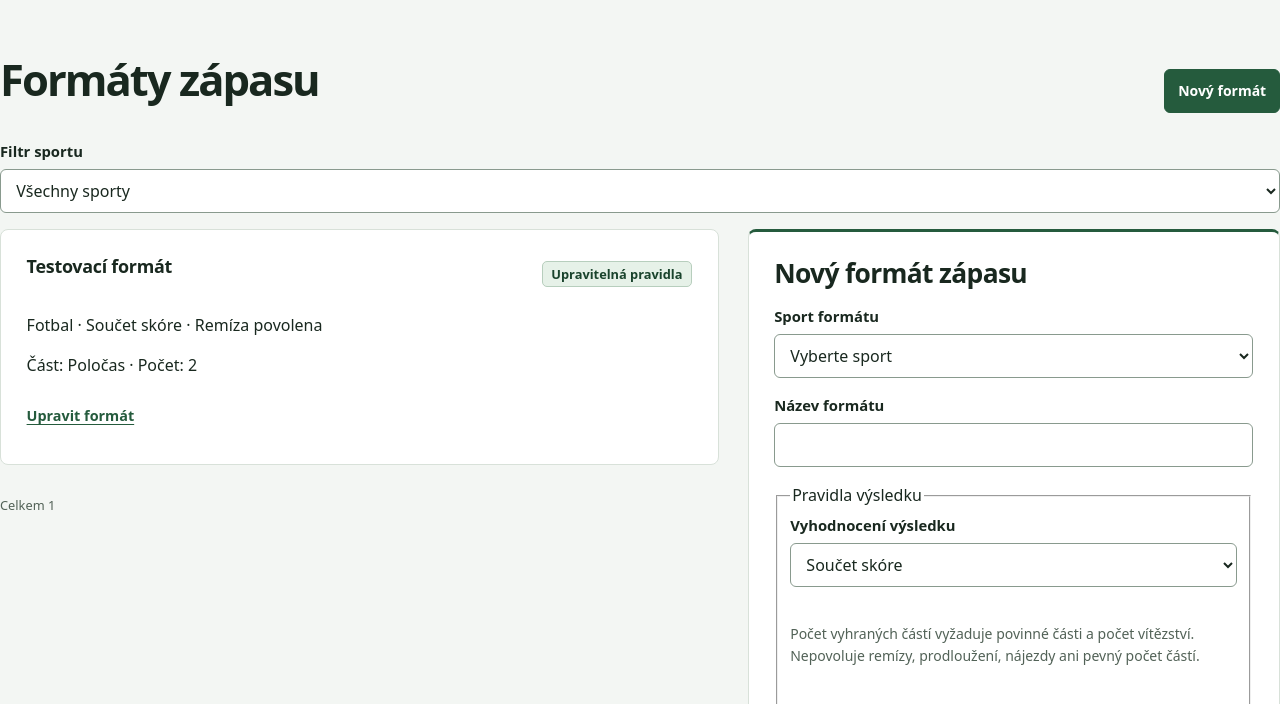
Test: P4 formáty zápasu › při konfliktu zachová úpravy i přesnou verzi a načte nový stav až na pokyn
This screenshot has width=1280, height=704.
Click the button "Upravit formát" at x=80, y=416, box [27,394,134,438]
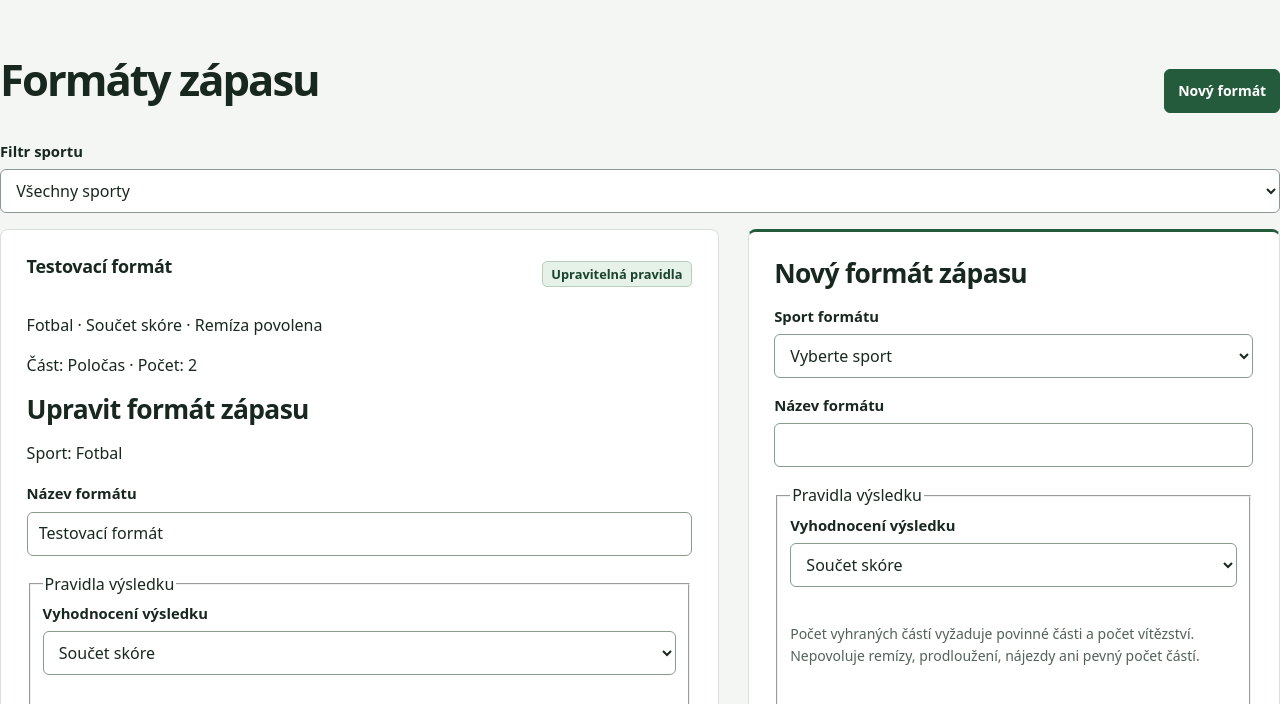
Replace the text in the field labelled "Název formátu" below "Sport:" with "Rozepsaná změna" at x=359, y=534, box [27,512,692,556]
(page scrolled)
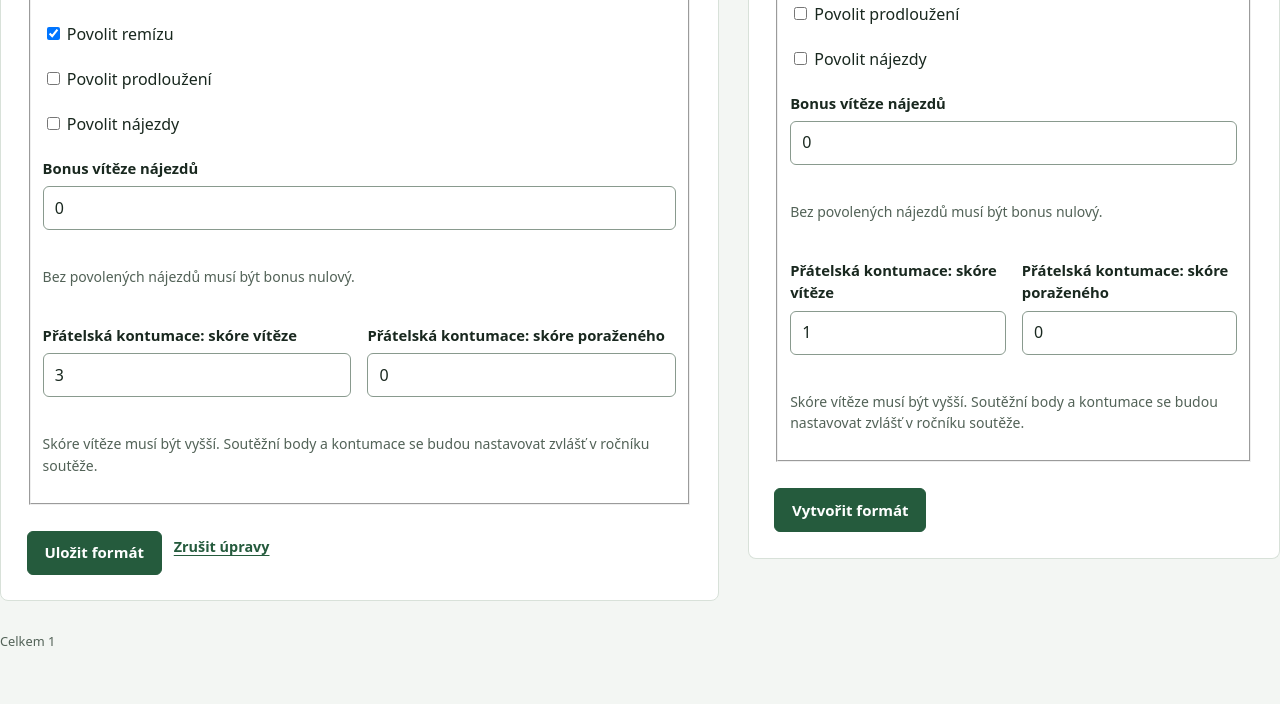
Click the button "Uložit formát" at x=94, y=552, box [27,530,162,574]
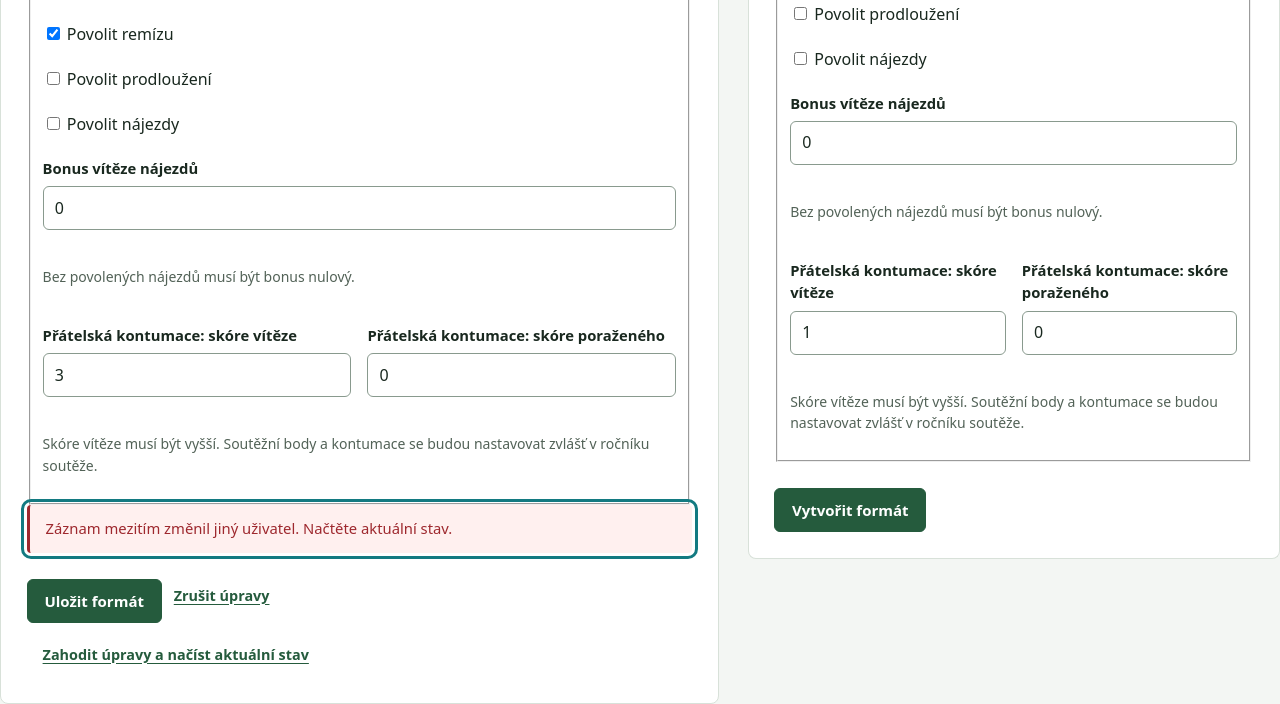
Check: the message "Záznam mezitím změnil jiný uživatel. Načtěte aktuální stav." is shown, box [27,504,692,553]
Click the button "Zahodit úpravy a načíst aktuální stav" at x=176, y=655, box [43,633,309,677]
(page scrolled)
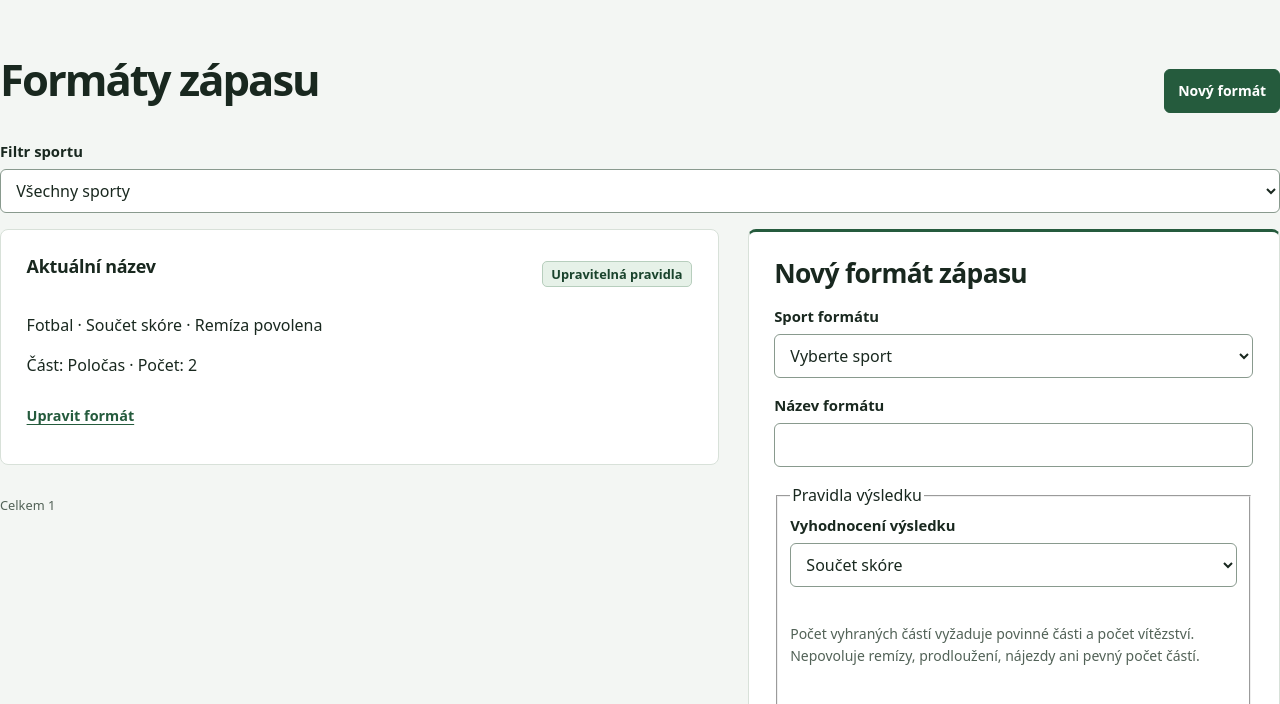
Check: the element "Aktuální název" is shown, box [0,229,719,465]
